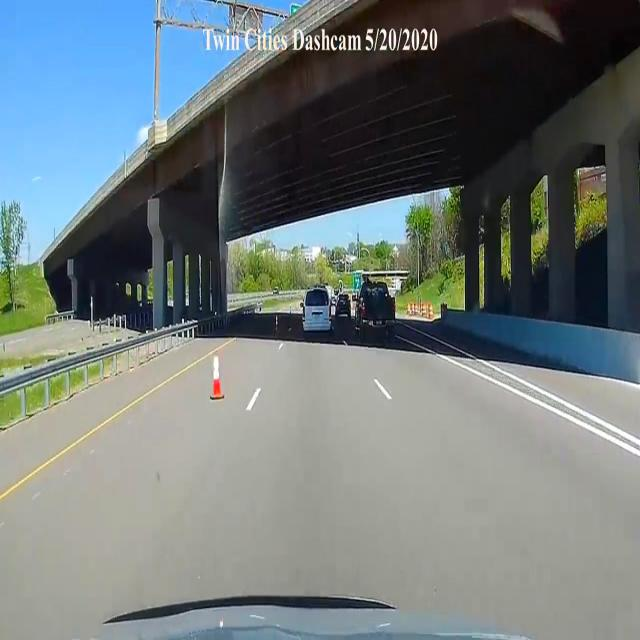cone: (209, 370, 226, 398)
